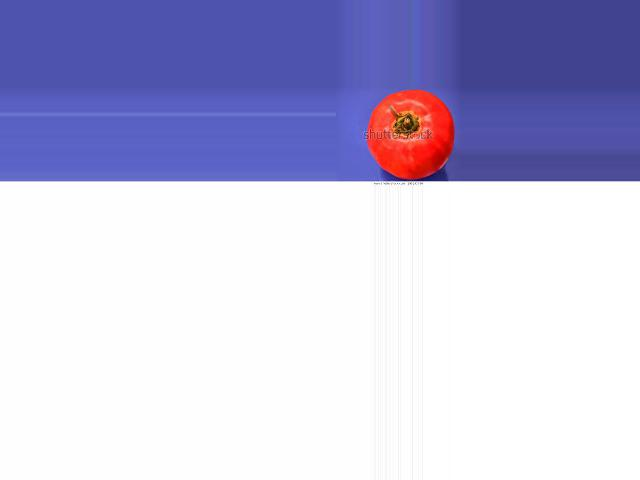tomato: (367, 90, 455, 178)
